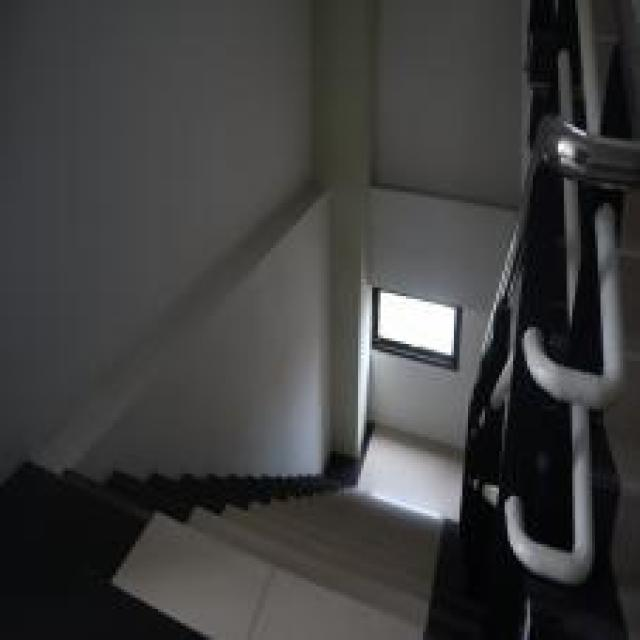downstair: (49, 514, 444, 638)
